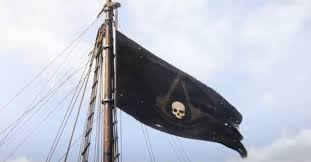Jolly Roger Flag: (106, 31, 251, 160)
